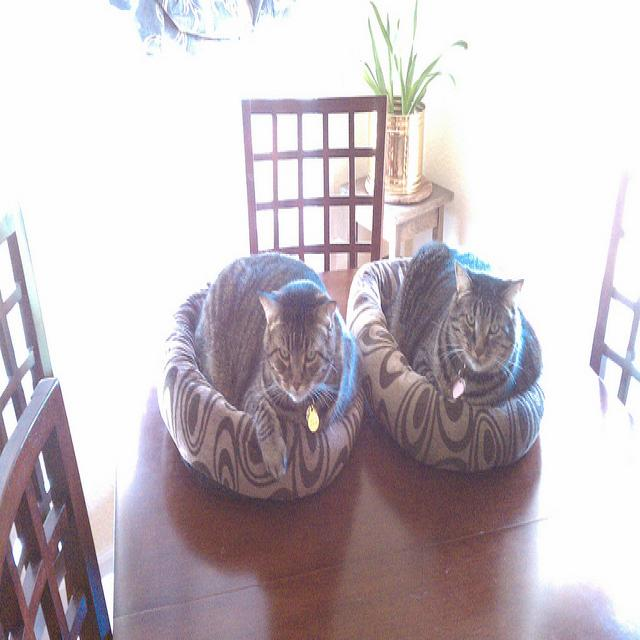chair: (0, 202, 114, 633), (243, 100, 389, 274), (591, 174, 640, 408)
dining table: (113, 337, 640, 629)
